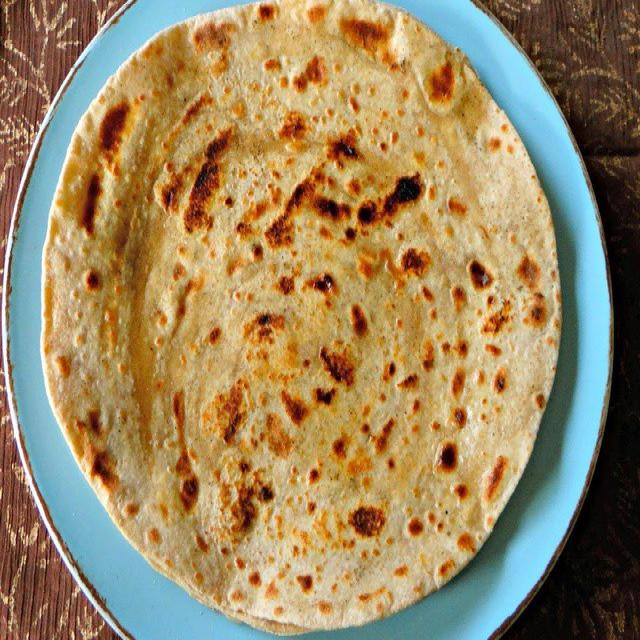ROTI: (37, 0, 560, 632)
